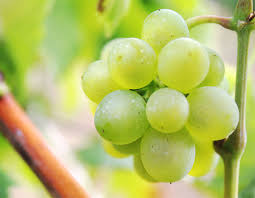Green grapes: (88, 10, 238, 183)
